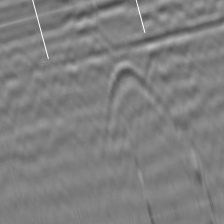Utility: (104, 58, 171, 141)
